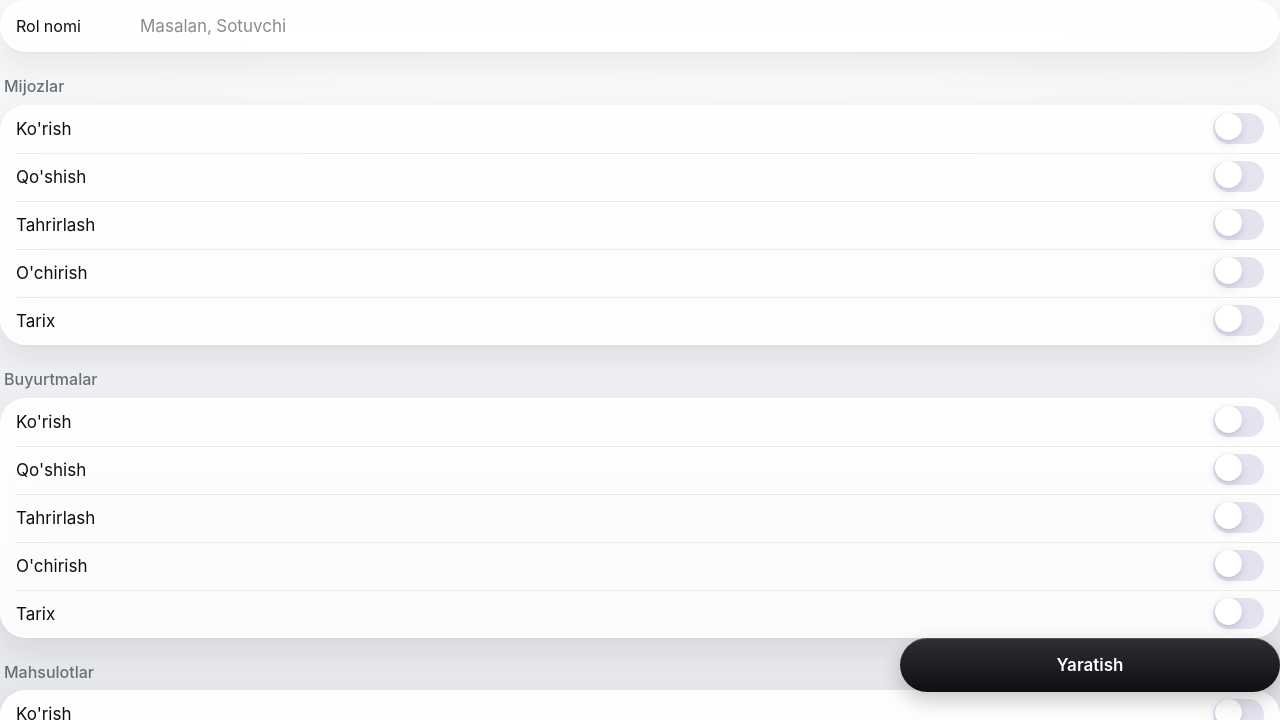
Test case: a role needs a name; a name another role has is refused by the API, and the form stays
Click the button "Yaratish" at [1090, 665], box [900,638,1279,692]
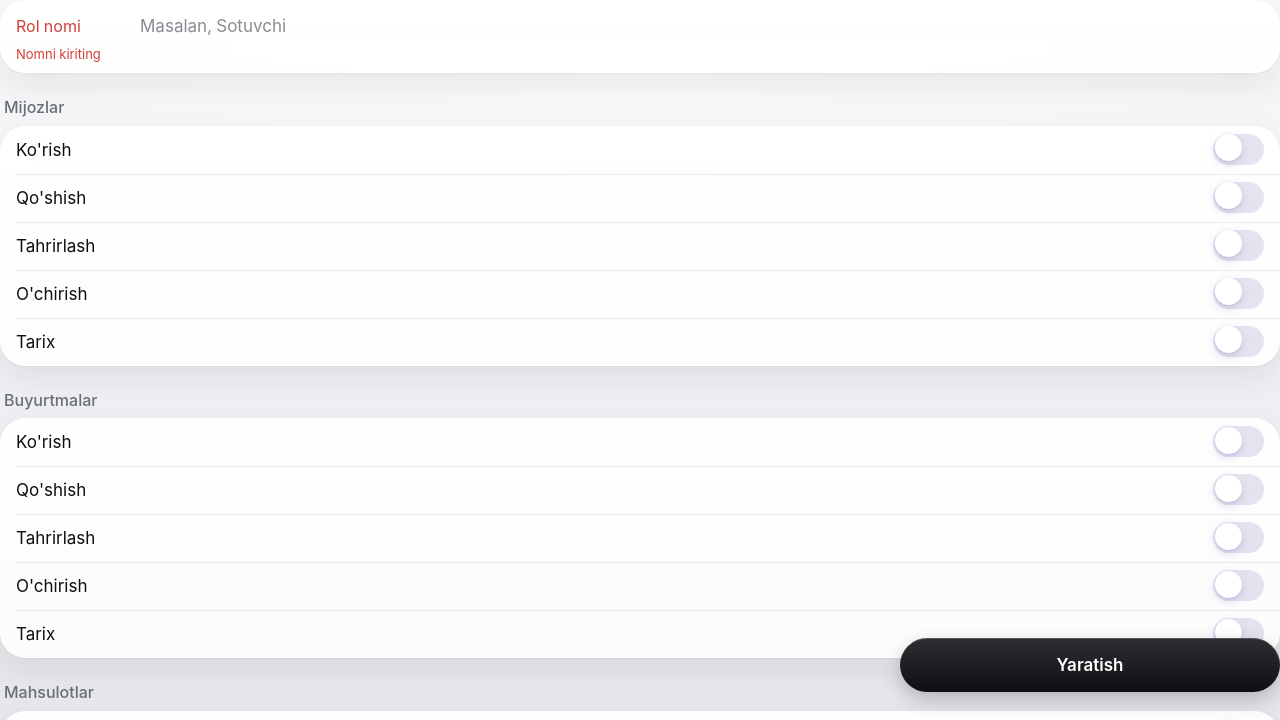
Expected: the text "Nomni kiriting" is shown, [16,46,101,62]
Type "sotuvchi" into the field labelled "Rol nomi" at [702, 26], box [140,4,1264,48]
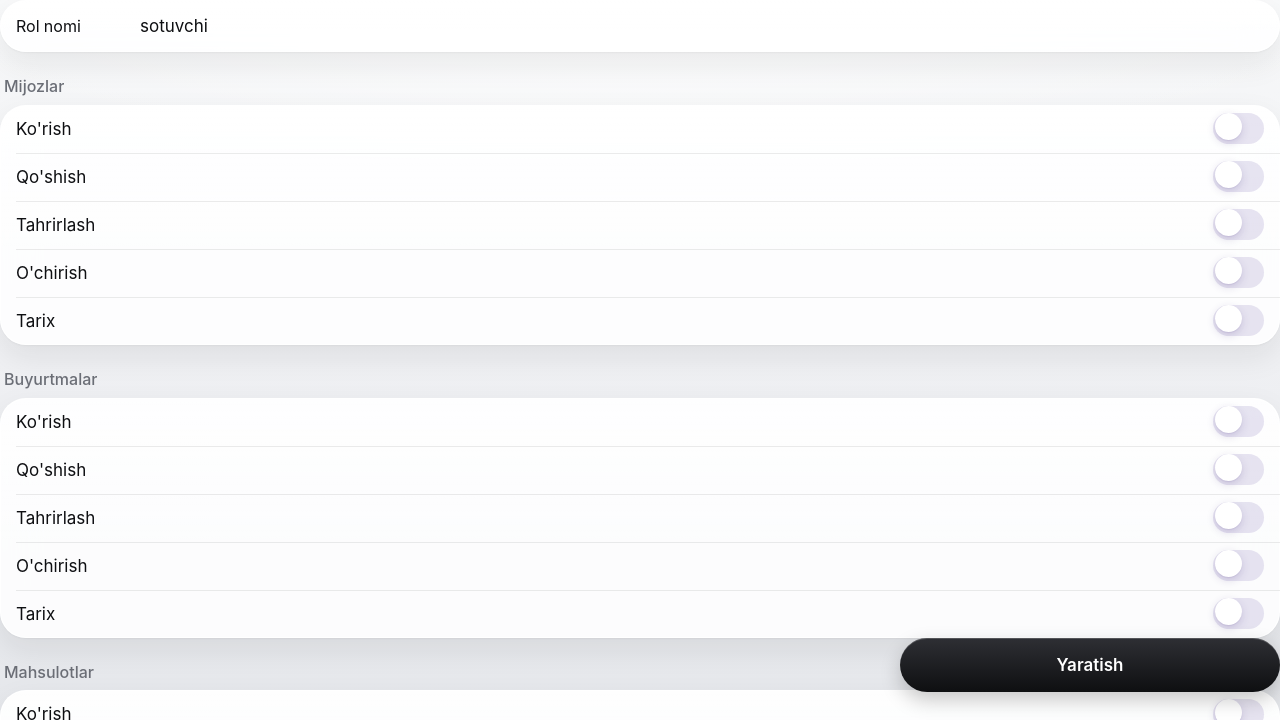
Click the button "Yaratish" at [1090, 665], box [900,638,1279,692]
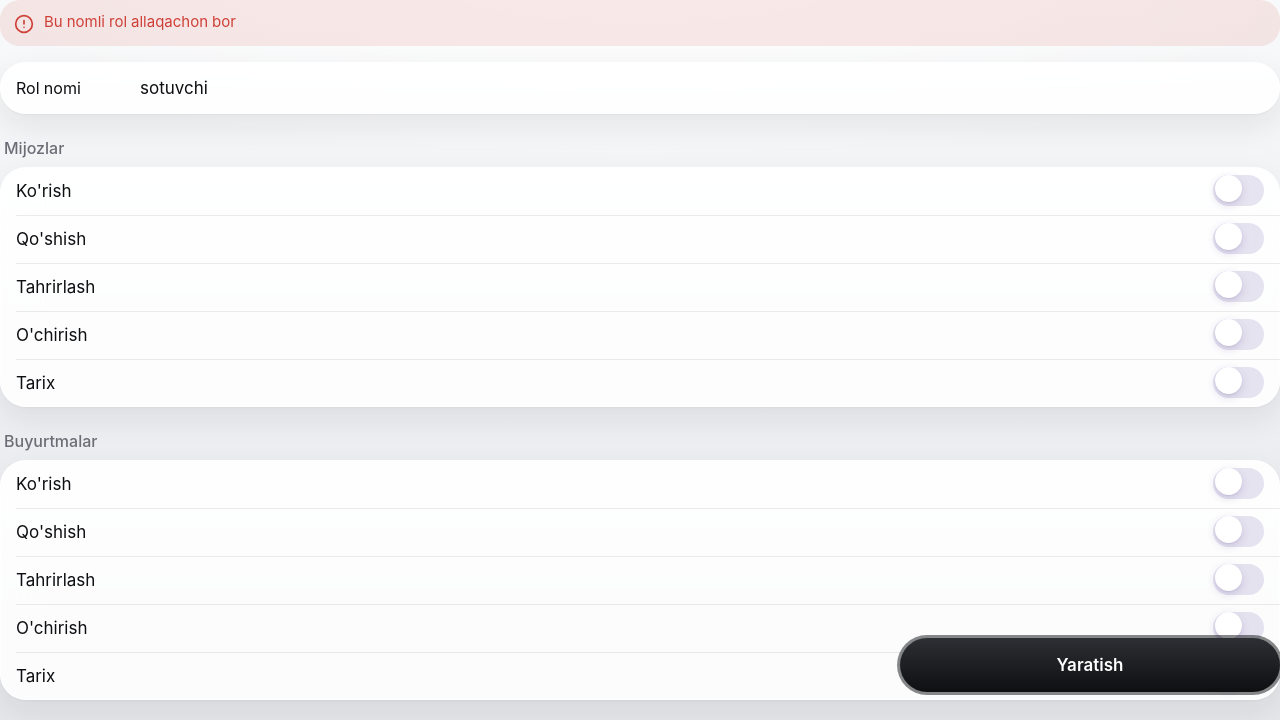
Expected: the text "Bu nomli rol allaqachon bor" is shown, [44,12,236,31]
